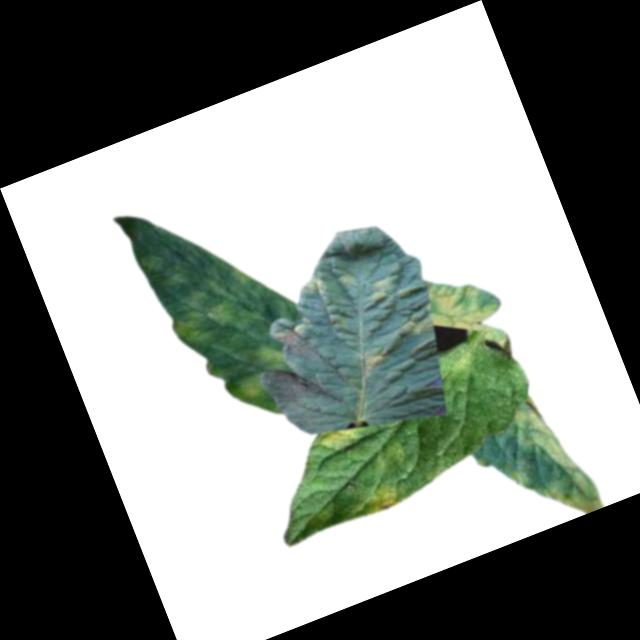Leaf_Mold: (483, 382, 612, 535), (416, 258, 515, 368), (158, 257, 268, 353), (316, 417, 364, 457), (355, 477, 404, 516), (295, 268, 336, 307), (255, 338, 292, 378), (397, 304, 438, 339), (364, 271, 403, 307), (357, 345, 394, 375), (236, 368, 266, 401), (336, 265, 362, 292)
